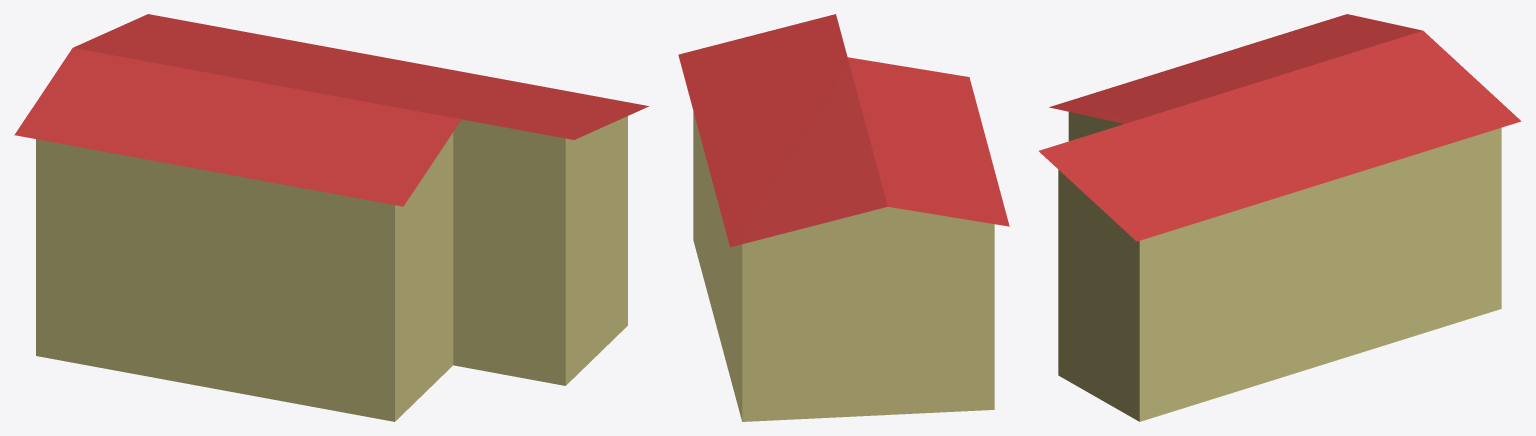
The picture shows the model from 3 angles, left to right: view 1: azimuth 30°, elevation 25°; view 2: azimuth 150°, elevation 25°; view 3: azimuth 270°, elevation 25°; orthographic projection. The views are drawn at different scales.
Size of the model in its own units: 18.17 by 16.87 by 8.6.
